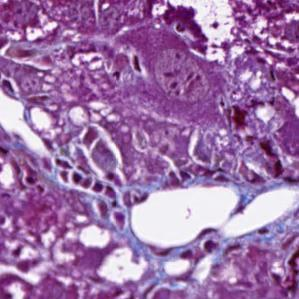inflammation: (53, 151, 127, 211)
